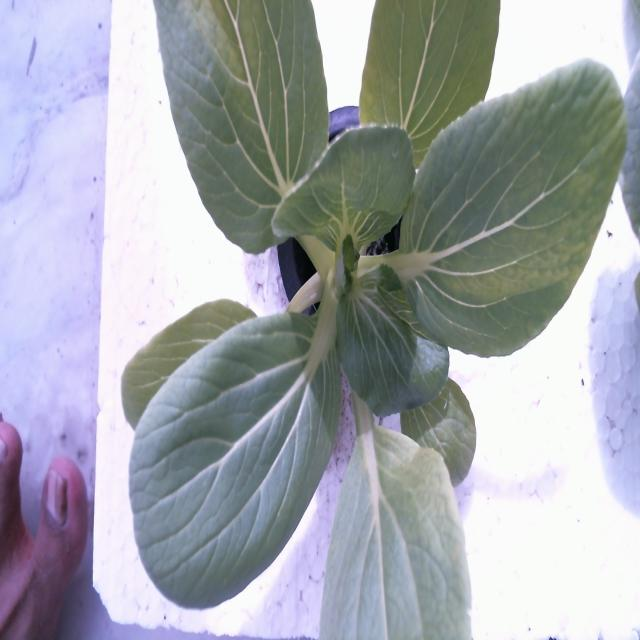pakcoy_tidak_sehat: (119, 0, 633, 640)
